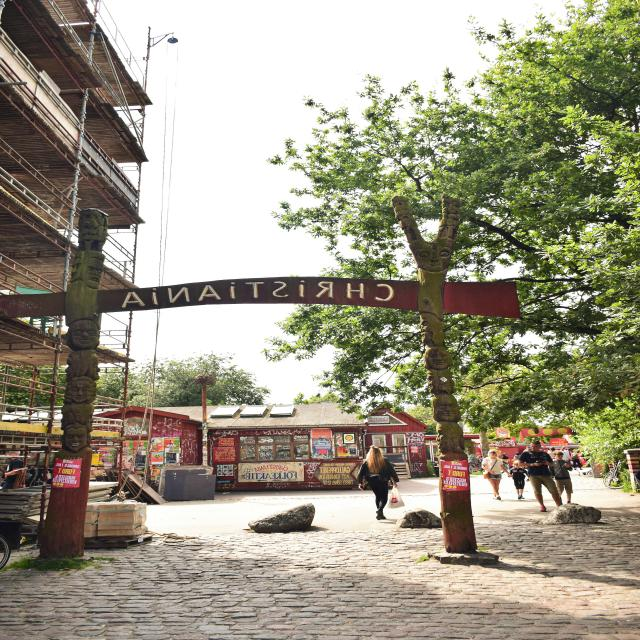adult: (518, 441, 560, 512), (358, 447, 397, 520), (482, 449, 510, 499), (549, 451, 572, 503), (508, 460, 530, 499)
